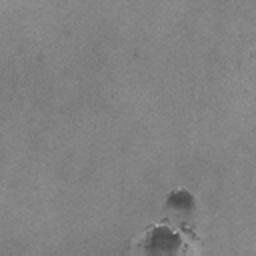Iron sheet ash: (147, 224, 182, 255), (166, 187, 193, 209), (180, 220, 193, 233)
